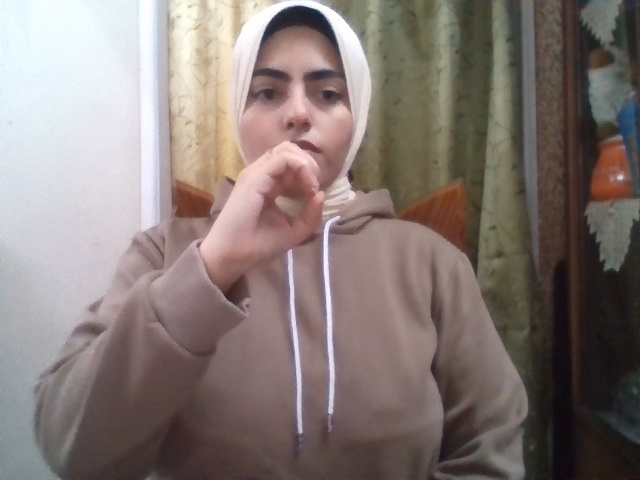O: (214, 141, 326, 267)
